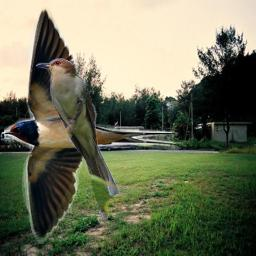Cuckoo: (36, 58, 122, 221)
Swallow: (4, 6, 181, 245)
